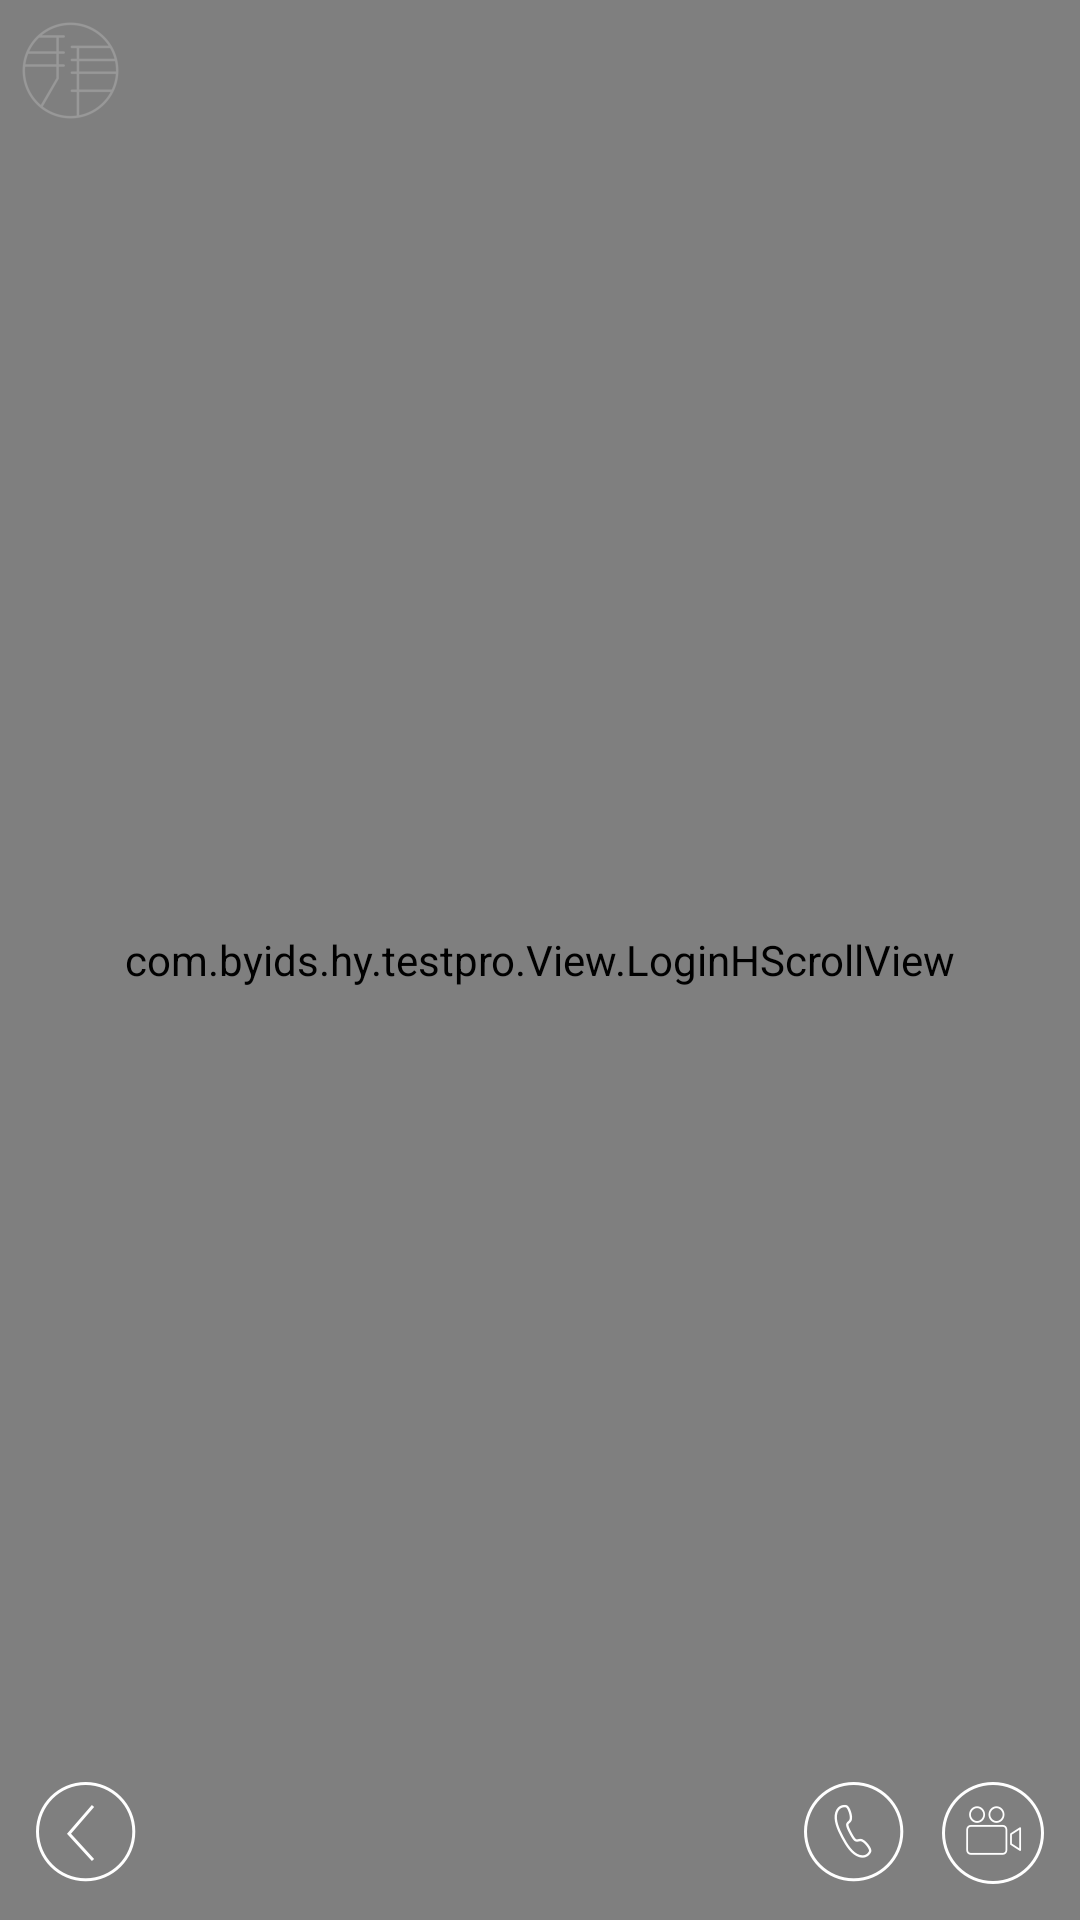

Icons on this 1080 × 1920 Android screen, each with its box as (x1, y1, x2, y2):
back: (36, 1782, 136, 1882)
phone: (804, 1782, 904, 1882)
video: (942, 1782, 1044, 1884)
